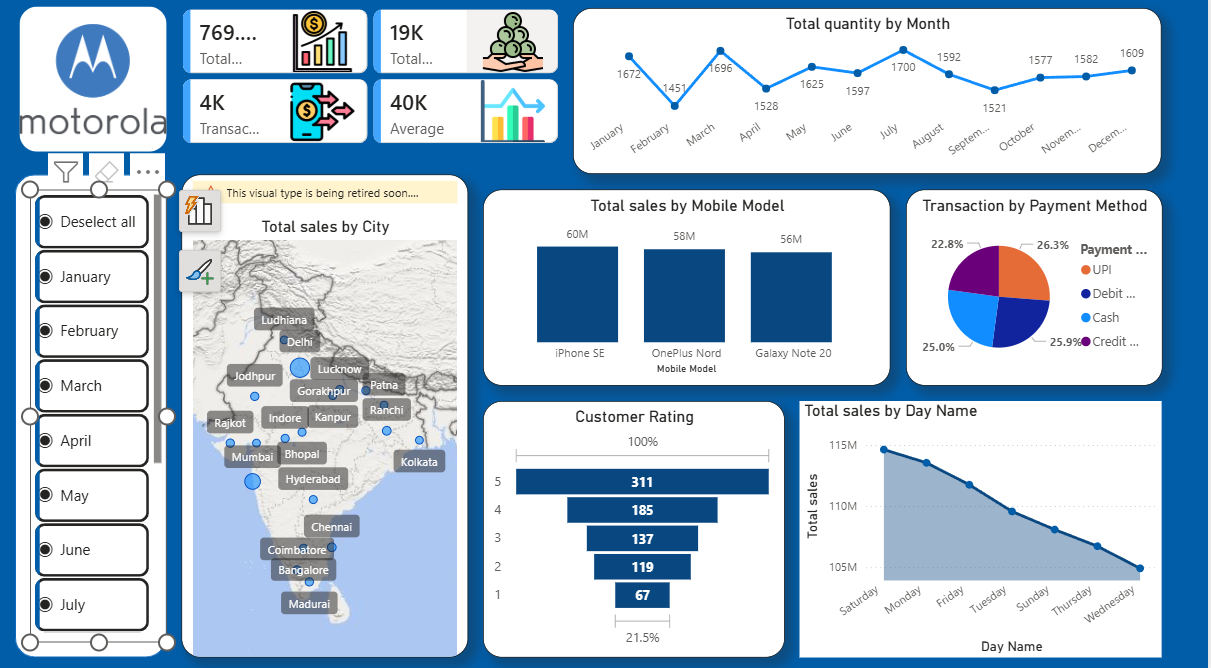

Layout of this report page (visuals, bound fields, positions):
{"tool":"powerbi","page":{"name":"Page 1","canvas":[1280,720],"ordinal":0},"visuals":[{"type":"image","box":[20,14,156,154],"z":0},{"type":"shape","box":[16,192,160,512],"z":1000},{"type":"listSlicer","fields":{"Values":["Mobile_sales_data.Date.Variation.Date Hierarchy.Month"]},"box":[32,208,144,480],"z":2000},{"type":"cardVisual","fields":{"Data":["Mobile_sales_data.Total sales","Mobile_sales_data.Total quantity","Mobile_sales_data.Transaction","Mobile_sales_data.Average"]},"box":[176,0,432,176],"z":3000},{"type":"map","fields":{"Size":["Mobile_sales_data.Total sales"],"Category":["Mobile_sales_data.City"]},"box":[192,192,304,512],"z":4000},{"type":"lineChart","fields":{"Category":["Mobile_sales_data.Date.Variation.Date Hierarchy.Month","Mobile_sales_data.Date.Variation.Date Hierarchy.Day"],"Y":["Mobile_sales_data.Total quantity"]},"box":[608,16,624,176],"z":5000},{"type":"columnChart","fields":{"Category":["Mobile_sales_data.Mobile Model"],"Y":["Mobile_sales_data.Total sales"]},"box":[512,208,432,208],"z":6000},{"type":"pieChart","fields":{"Category":["Mobile_sales_data.Payment Method"],"Y":["Mobile_sales_data.Transaction"]},"box":[960,208,272,208],"z":7000},{"type":"funnel","title":" Customer Rating","fields":{"Category":["Mobile_sales_data.Customer Ratings"],"Y":["CountNonNull(Mobile_sales_data.Customer Ratings)"]},"box":[512,432,320,272],"z":8000},{"type":"areaChart","fields":{"Category":["Mobile_sales_data.Day Name"],"Y":["Mobile_sales_data.Total sales"]},"box":[848,432,384,272],"z":9000}]}

Visuals, with their boxes in screenshot pixels (x1, y1, x2, y2), scaled from the page's 1280x720 canvas onto the 1211x668 screenshot:
image: l=19, t=13, r=167, b=156
shape: l=15, t=178, r=167, b=653
listSlicer - Mobile_sales_data.Date.Variation.Date Hierarchy.Month: l=30, t=193, r=167, b=638
cardVisual - Mobile_sales_data.Total sales x Mobile_sales_data.Total quantity: l=167, t=0, r=575, b=163
map - Mobile_sales_data.Total sales x Mobile_sales_data.City: l=182, t=178, r=469, b=653
lineChart - Mobile_sales_data.Date.Variation.Date Hierarchy.Month x Mobile_sales_data.Date.Variation.Date Hierarchy.Day: l=575, t=15, r=1166, b=178
columnChart - Mobile_sales_data.Mobile Model x Mobile_sales_data.Total sales: l=484, t=193, r=893, b=386
pieChart - Mobile_sales_data.Payment Method x Mobile_sales_data.Transaction: l=908, t=193, r=1166, b=386
" Customer Rating" funnel: l=484, t=401, r=787, b=653
areaChart - Mobile_sales_data.Day Name x Mobile_sales_data.Total sales: l=802, t=401, r=1166, b=653
